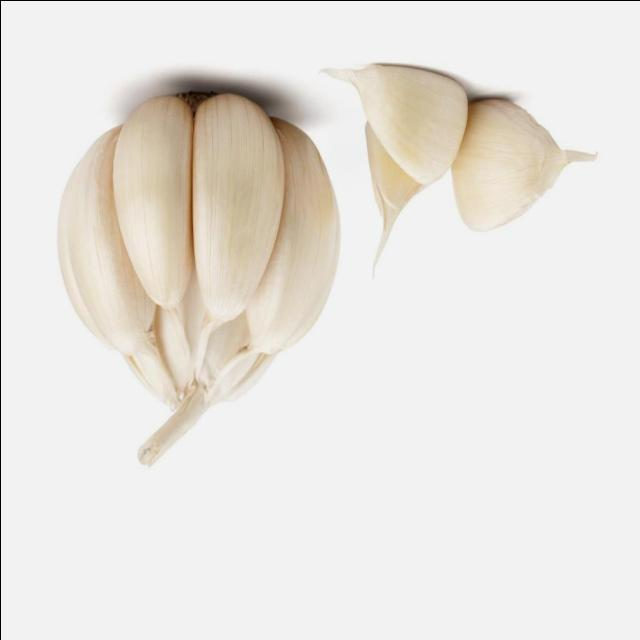garlic: (53, 89, 347, 470), (342, 62, 575, 262)
